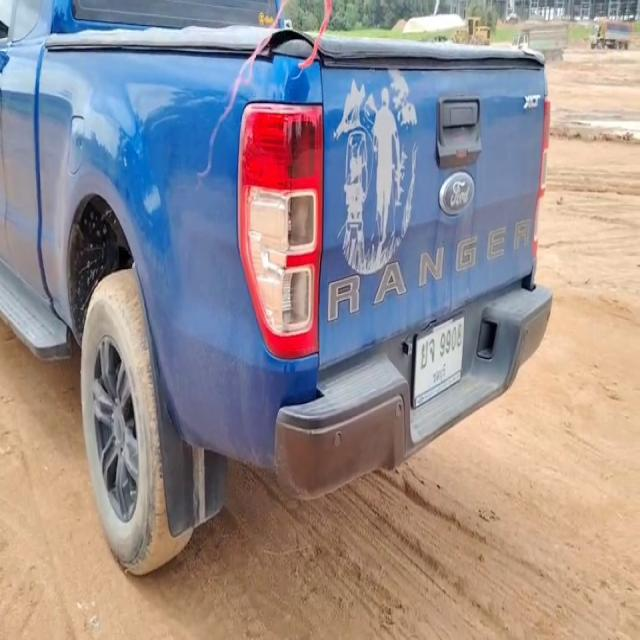Digit: (441, 323, 464, 355)
Licenseplate: (415, 312, 465, 411)
Provincename: (431, 366, 448, 384)
Thaichar: (420, 337, 434, 369)
